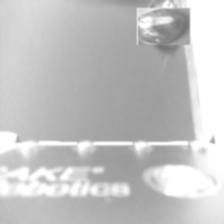Lock: (141, 4, 187, 49)
